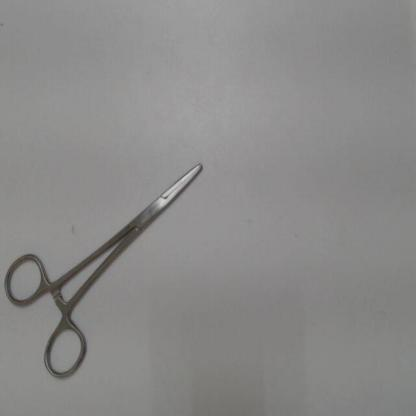Mayo Needle Holder: (0, 142, 219, 388)
